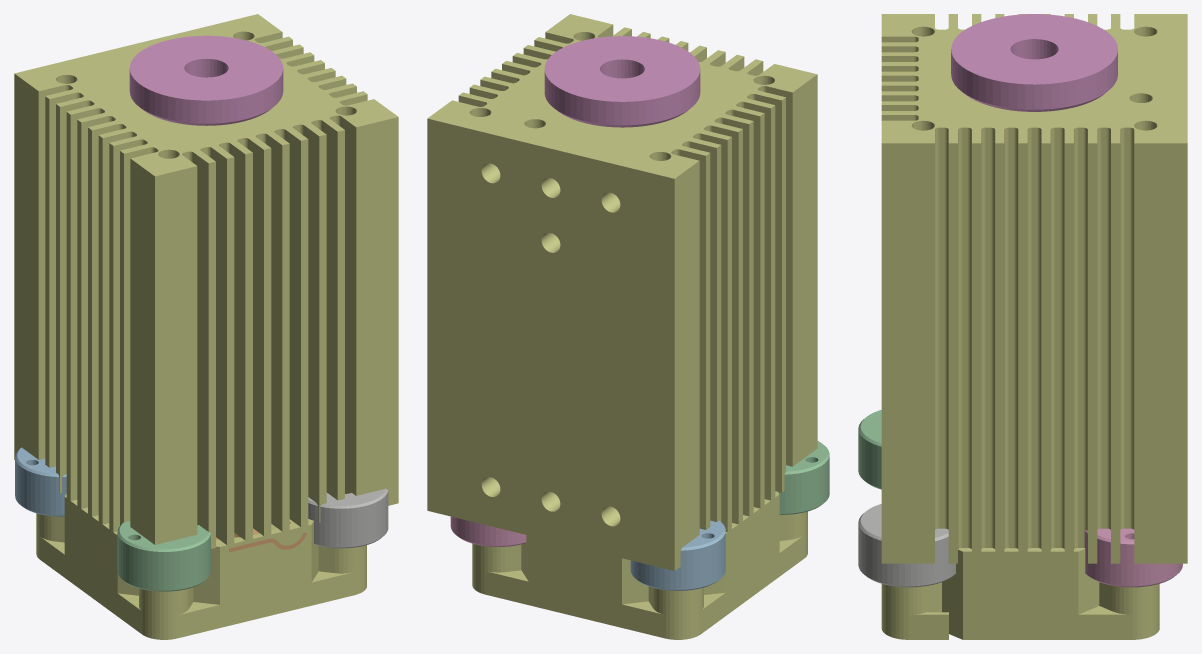
File: case-04_gpt55.glb
3 views of the same model, side by side, from view 1: azimuth 30°, elevation 25°; view 2: azimuth 150°, elevation 25°; view 3: azimuth 270°, elevation 25° (orthographic). The views are drawn at different scales.
Parts seen in each view (by area): view 1: c00001, c00011, c00002, c00004, c00005, c00006; view 2: c00001, c00011, c00002, c00006, c00004, c00007; view 3: c00001, c00011, c00002, c00005, c00007, c00004.
Boxes of the visible parts, <box> form: c00001: <box>14,14,398,548</box>; c00011: <box>36,494,366,639</box>; c00002: <box>129,35,283,125</box>; c00004: <box>117,521,211,591</box>; c00005: <box>308,488,388,548</box>; c00006: <box>15,447,66,516</box>; c00001: <box>427,14,817,570</box>; c00011: <box>472,491,807,639</box>; c00002: <box>544,36,700,127</box>; c00006: <box>630,520,725,590</box>; c00004: <box>778,441,829,514</box>; c00007: <box>450,516,526,546</box>; c00001: <box>881,14,1187,563</box>; c00011: <box>881,548,1159,639</box>; c00002: <box>951,14,1117,111</box>; c00005: <box>858,504,955,587</box>; c00007: <box>1084,528,1182,587</box>; c00004: <box>858,410,881,489</box>.
Bounding box in the file's own units: 35.5 × 65.5 × 35.5.
